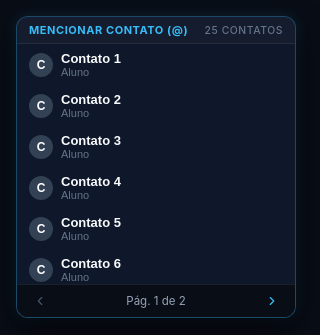
Scenario: ChatMentionContactsList › paginates contacts displaying 20 per page and allows page navigation
The width and height of the screenshot is (320, 335).
Expected: the text "Contato 1" is shown, x1=61 y1=51 x2=121 y2=66
Expected: the text "Contato 21" is not shown
Note: Clica para ir para a página 2
Click the button with test id "mention-next-page-btn": (272, 301) x1=259 y1=291 x2=285 y2=311
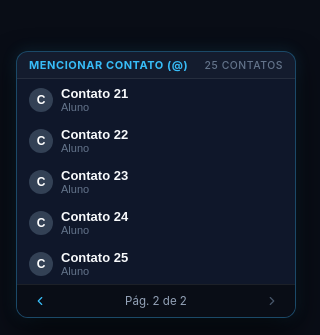
Result: the text with test id "mention-page-indicator" reads "Pág. 2 de 2" at x1=125 y1=294 x2=187 y2=308
Result: the button "Contato 1" is gone
Result: the text "Contato 21" is shown at x1=61 y1=86 x2=128 y2=101
Note: Clica para voltar para a página 1
Click the button with test id "mention-prev-page-btn": (40, 301) x1=27 y1=291 x2=53 y2=311
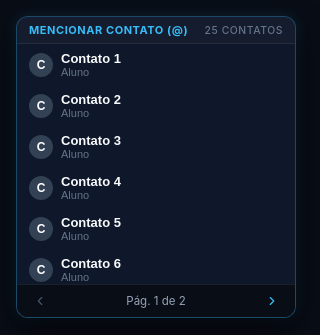
Result: the text with test id "mention-page-indicator" reads "Pág. 1 de 2" at x1=126 y1=294 x2=186 y2=308
Result: the text "Contato 1" is shown at x1=61 y1=51 x2=121 y2=66
